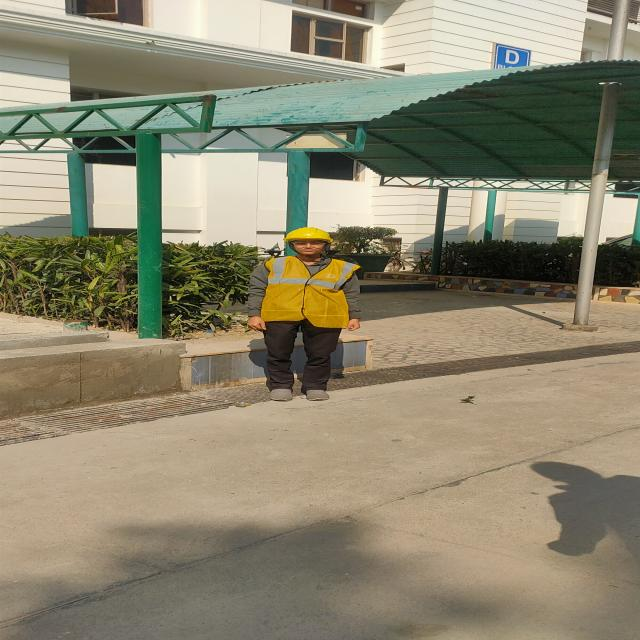safe: (249, 228, 360, 400)
